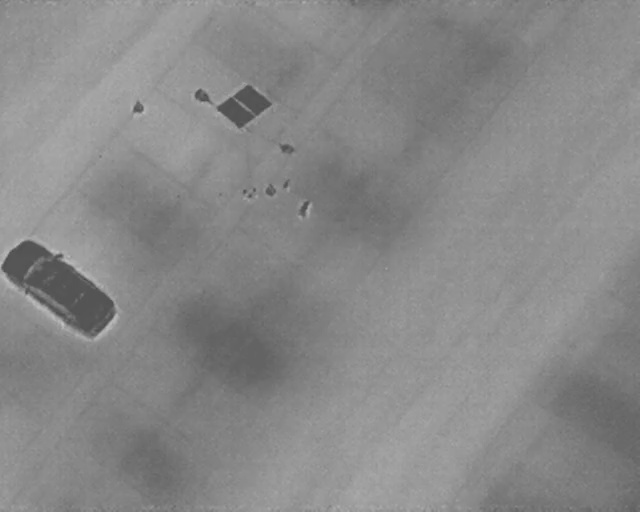Car: (1, 231, 125, 340)
